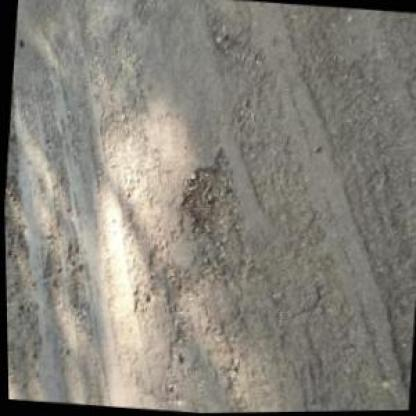pothole: (173, 144, 247, 248), (60, 242, 87, 300), (38, 244, 62, 298)
